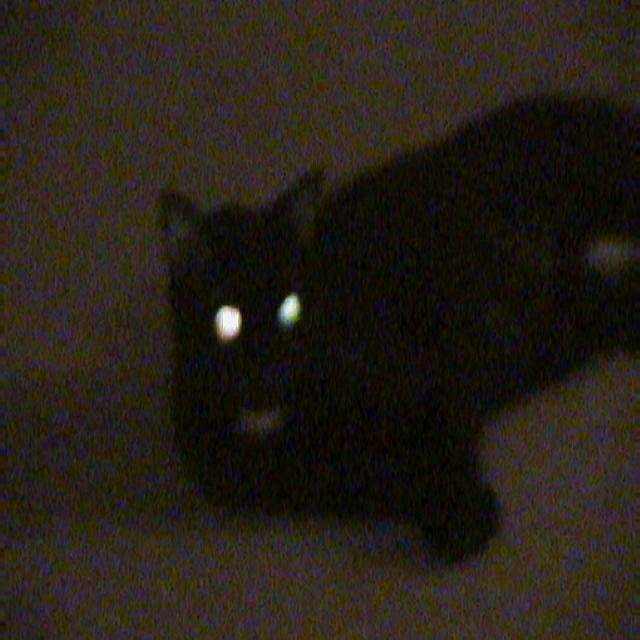Cat: (162, 85, 637, 545)
